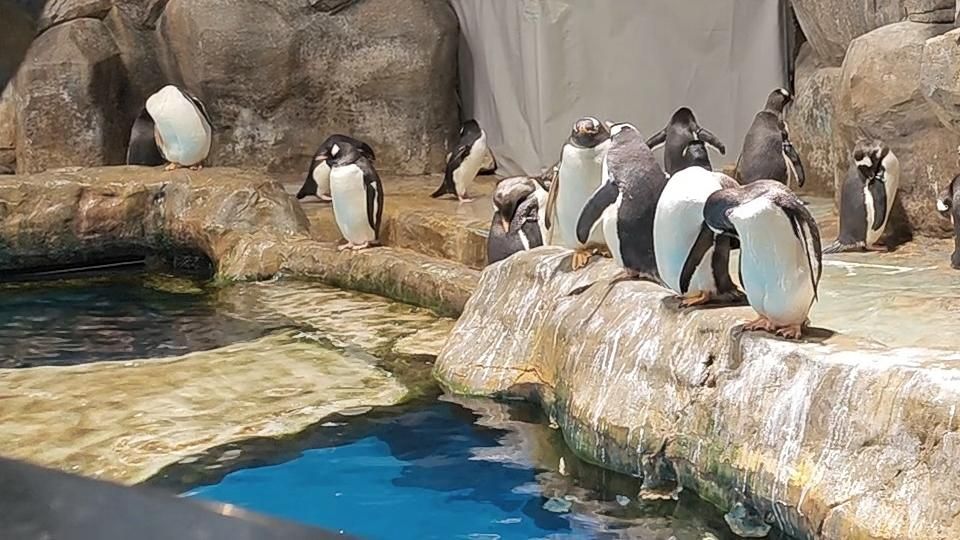Southern Rockhopper Penguin: (424, 111, 500, 198)
